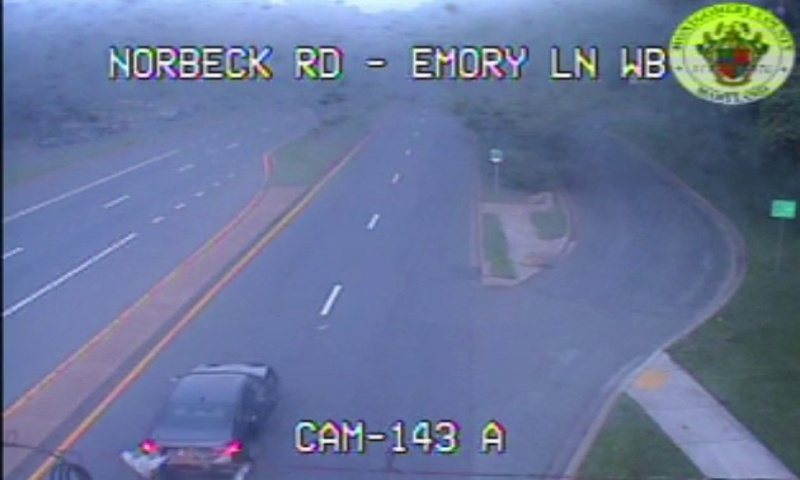car: (146, 362, 276, 465)
